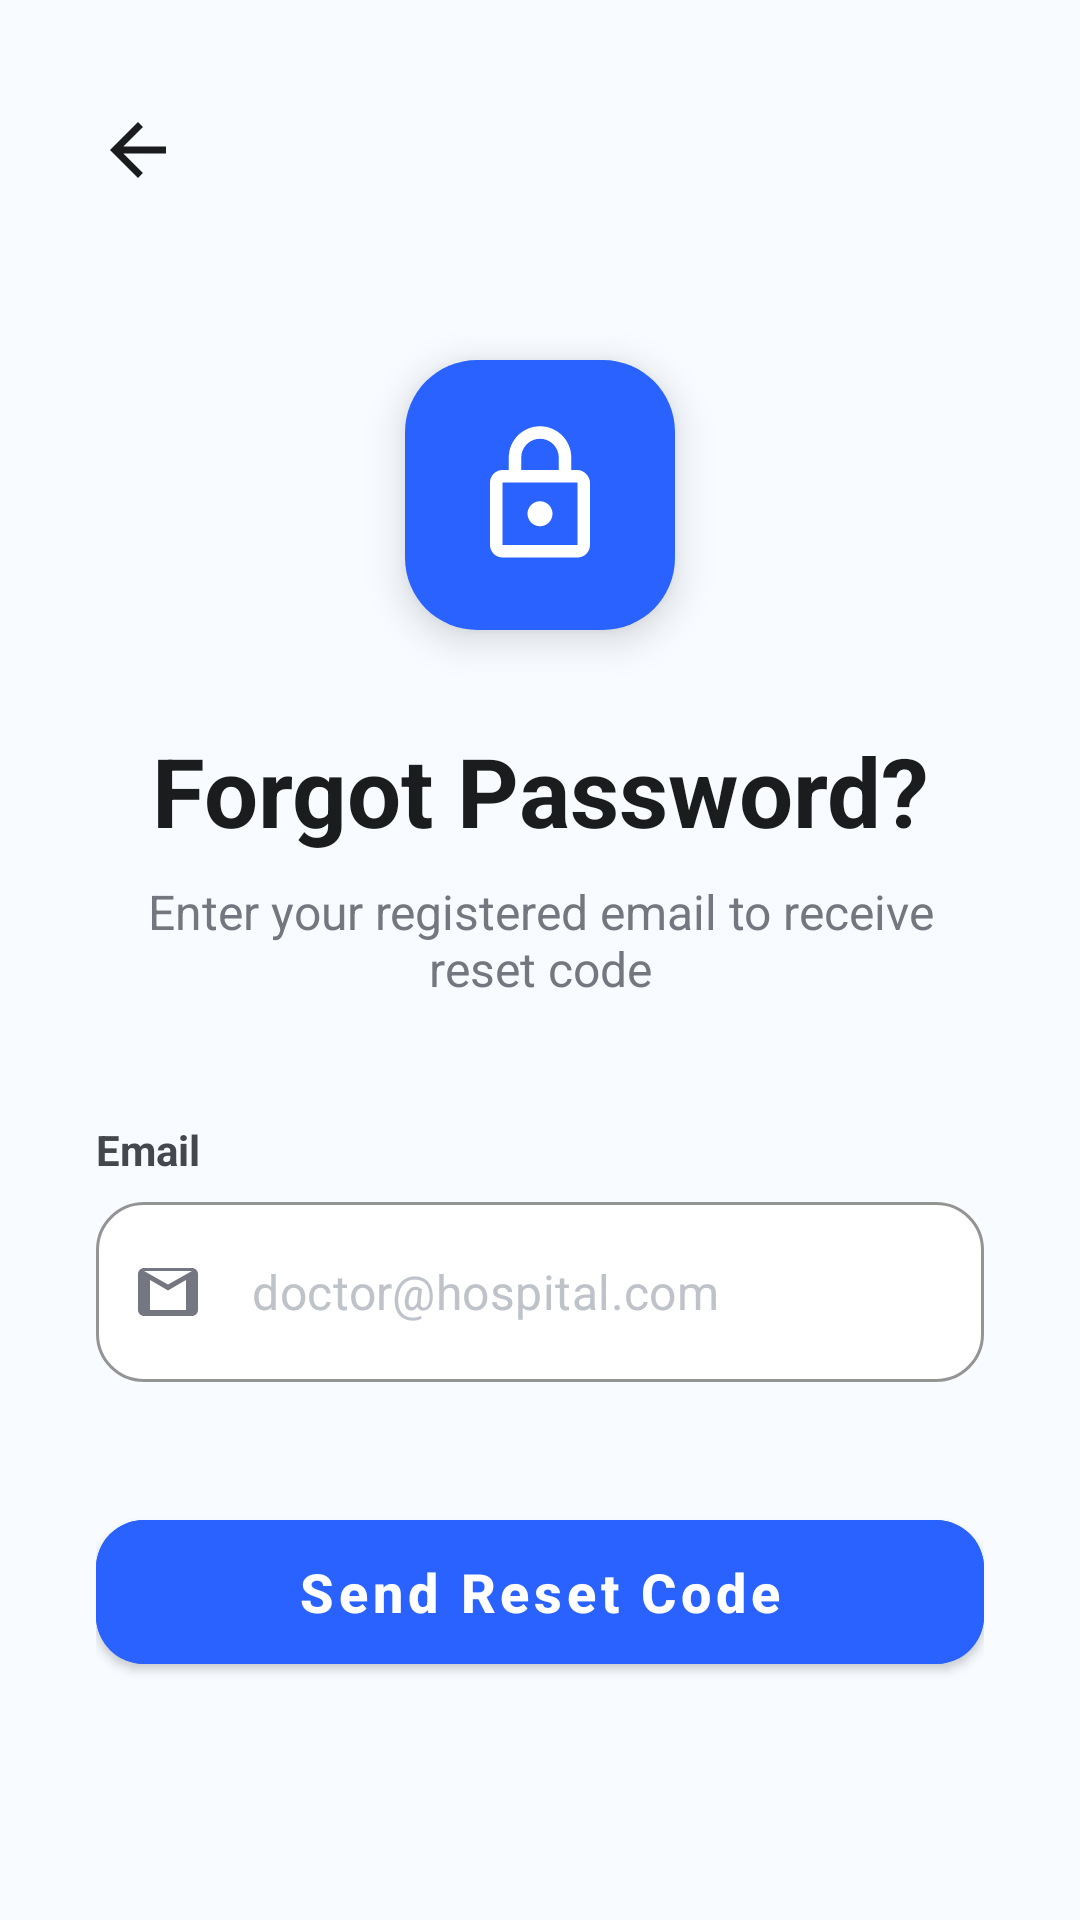

Icons on this 1080*1920 Android screen, each with its box as (x1, y1, x2, y2):
back: (110, 122, 166, 178)
lock: (405, 360, 675, 630)
